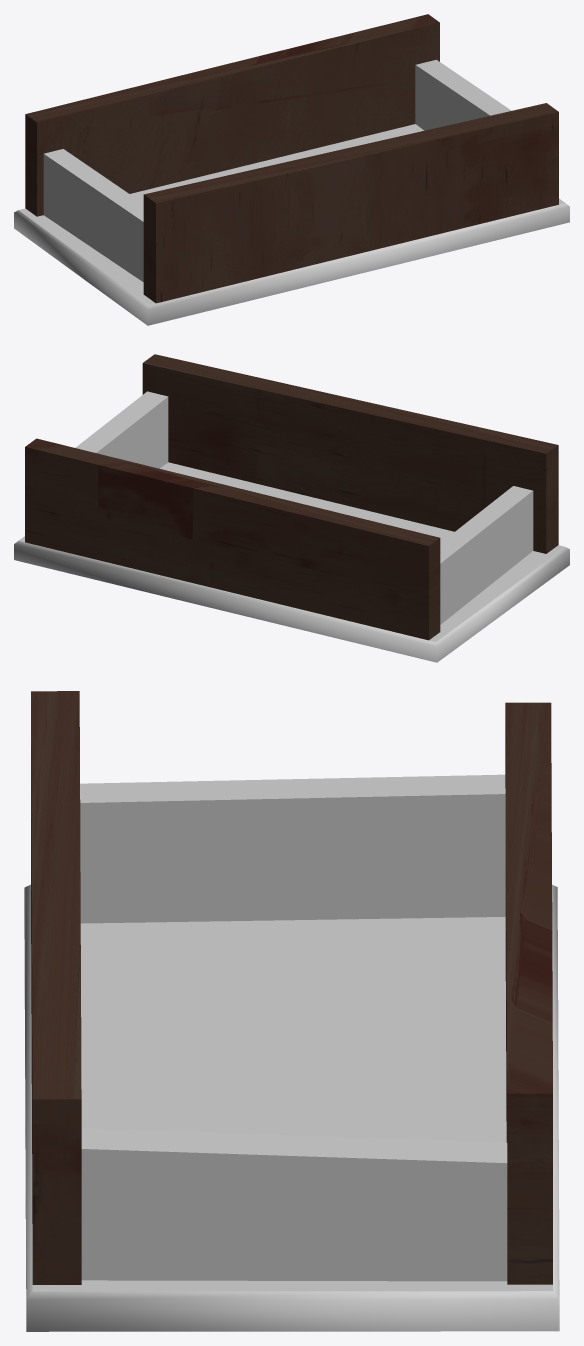
Rendered from Torture_Box.fbx.
3 views of the same model, one above another, from view 1: azimuth 30°, elevation 25°; view 2: azimuth 150°, elevation 25°; view 3: azimuth 270°, elevation 25° (orthographic). The views are drawn at different scales.
Parts seen in each view (by area): view 1: Torture_Box; view 2: Torture_Box; view 3: Torture_Box.
Part boxes in pixels (left/top/right/bottom): Torture_Box: left=14, top=14, right=569, bottom=325; Torture_Box: left=14, top=354, right=569, bottom=662; Torture_Box: left=24, top=691, right=559, bottom=1331.
Bounding box in the file's own units: 2.11 × 0.5666 × 1.16.
